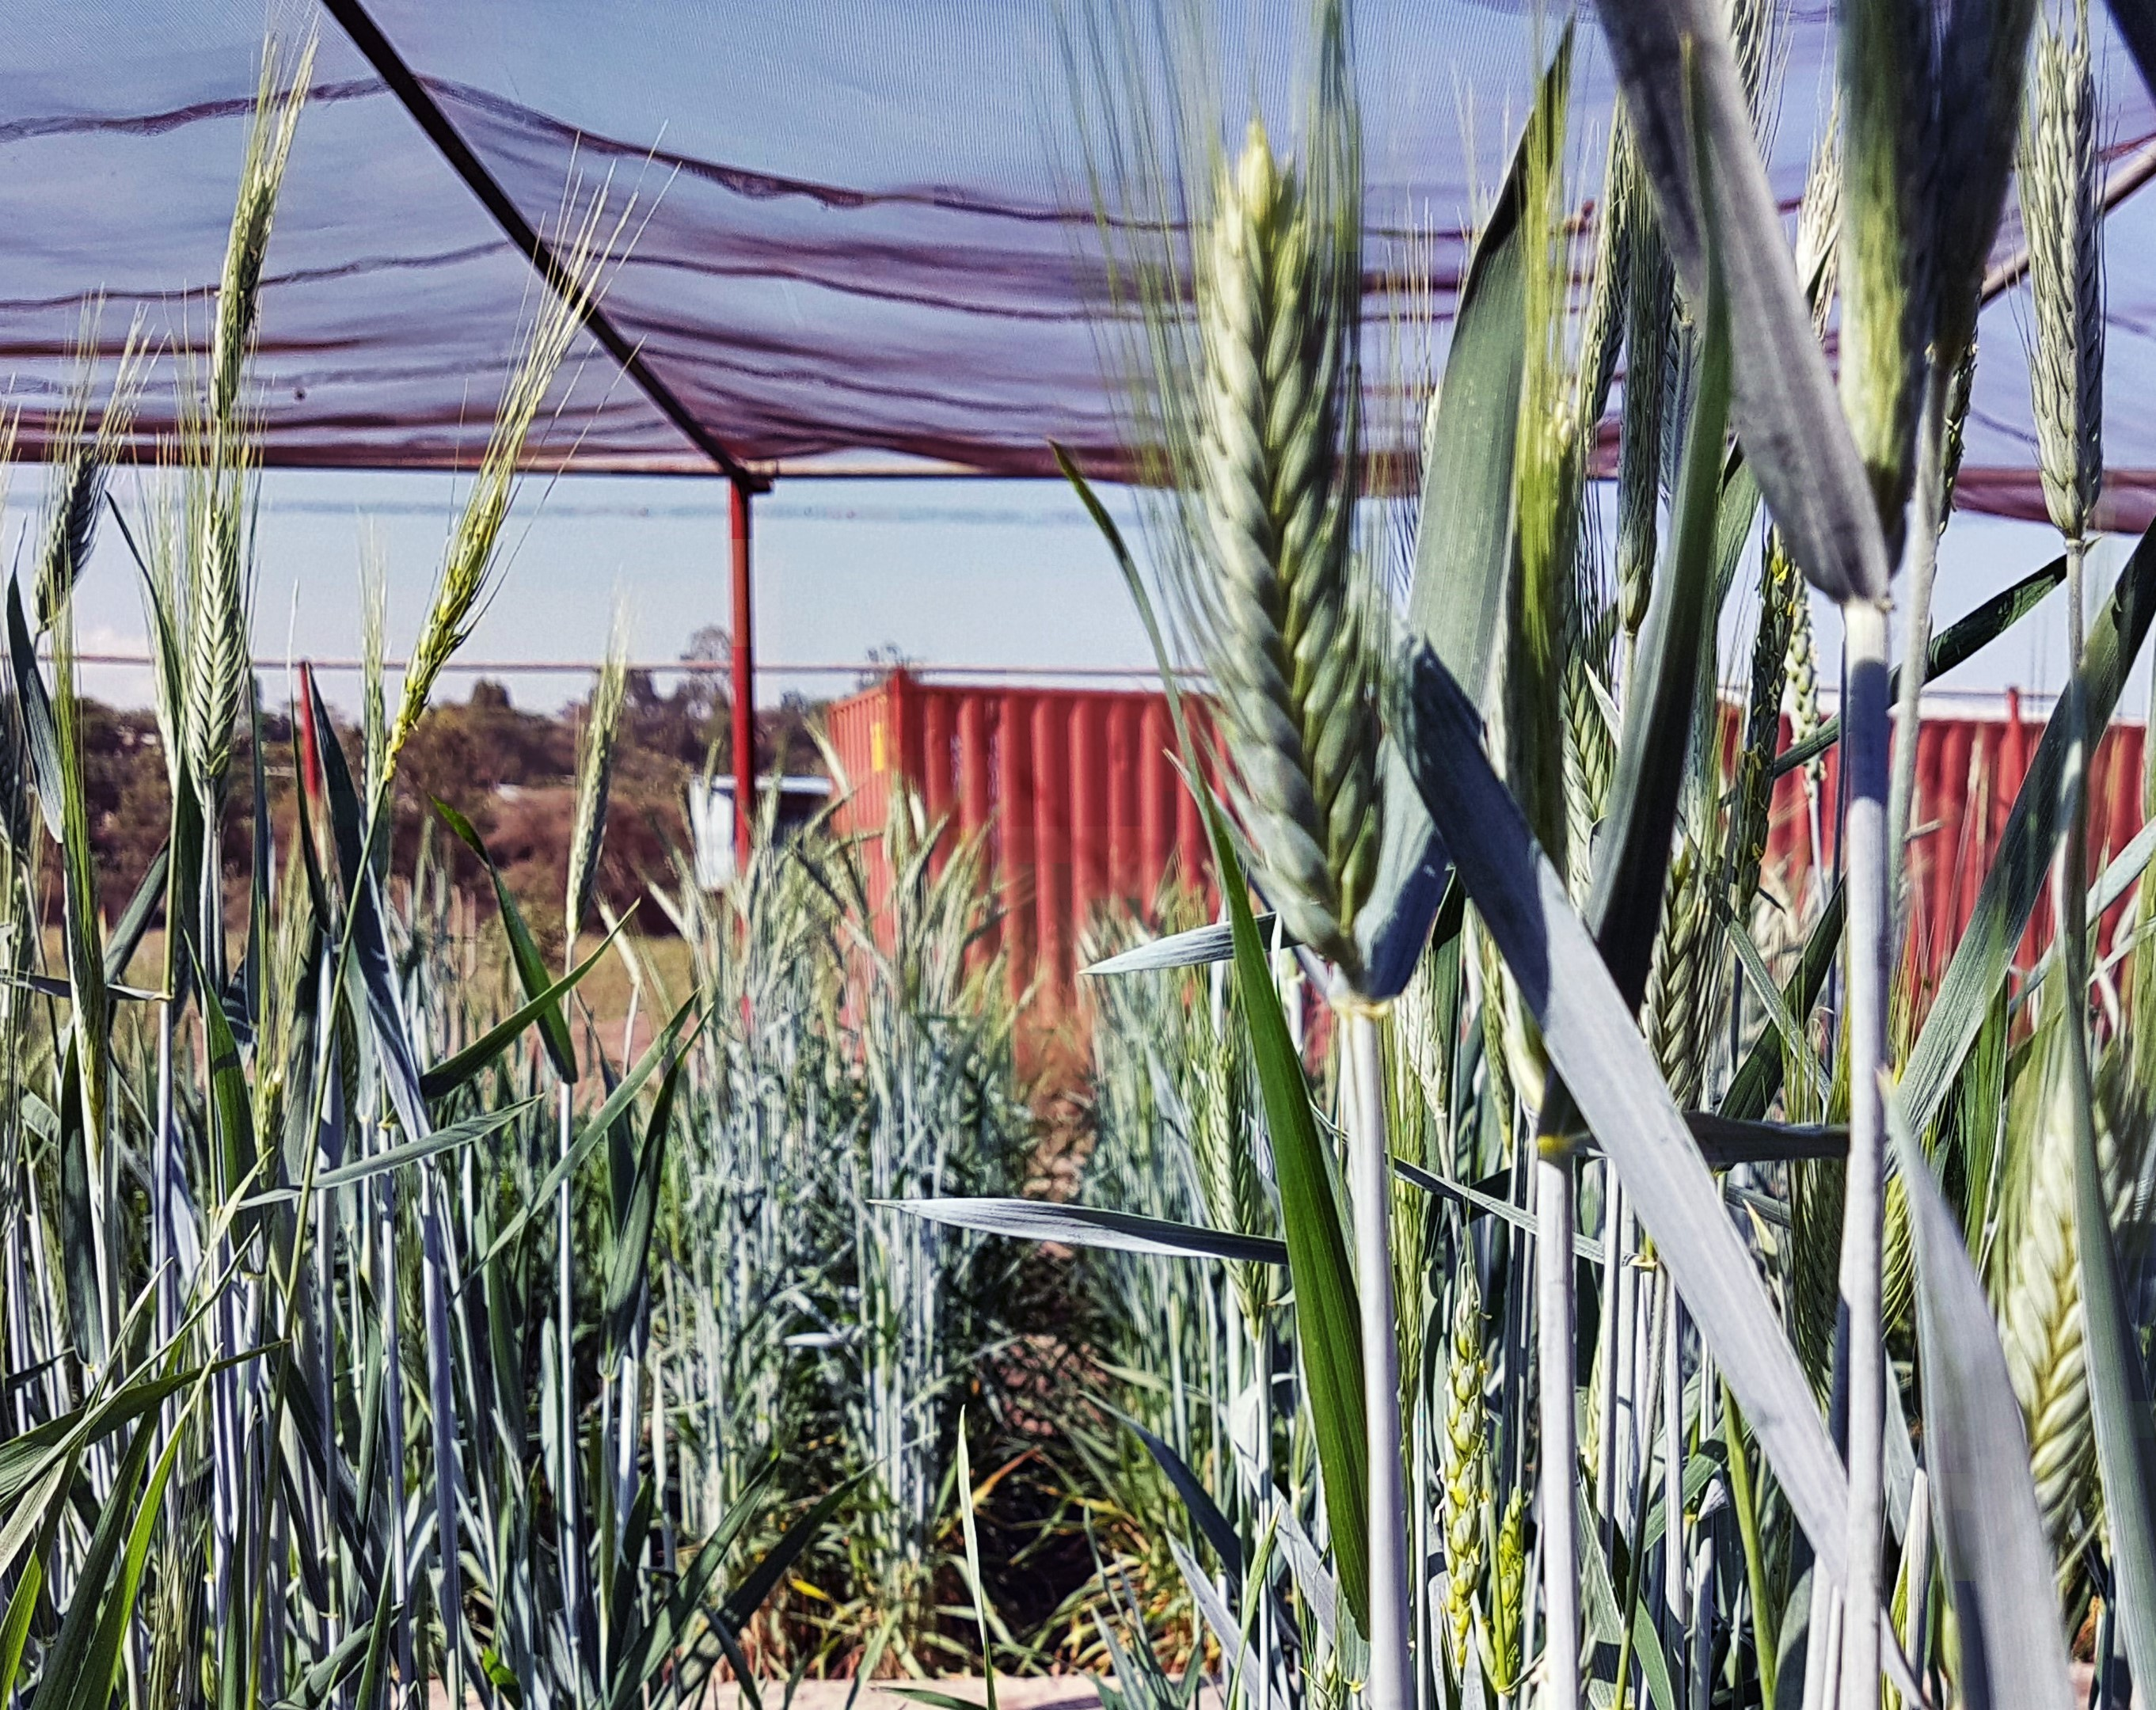Healthy Wheat: (2016, 42, 2137, 520), (168, 506, 268, 767)
